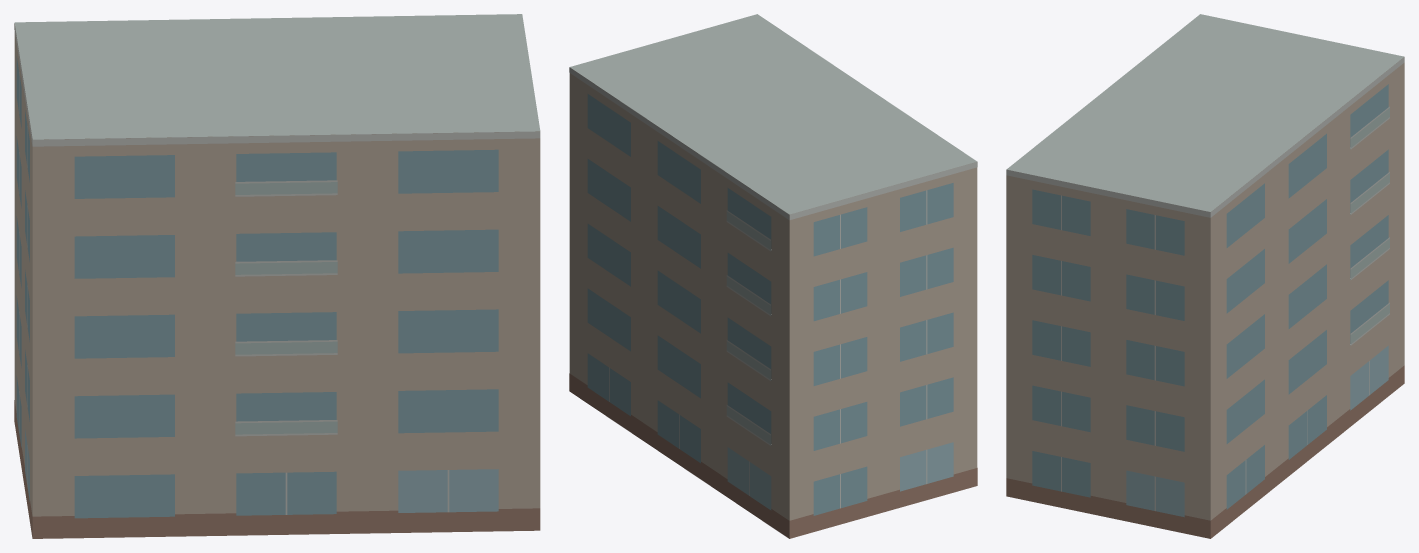
The model's file is survey-upis-32676097.glb.
3 views of the same model, side by side, from view 1: azimuth 30°, elevation 25°; view 2: azimuth 150°, elevation 25°; view 3: azimuth 270°, elevation 25° (orthographic). The views are drawn at different scales.
Visible parts, largest first — view 1: survey-upis-32676097.tmp; view 2: survey-upis-32676097.tmp; view 3: survey-upis-32676097.tmp.
Part boxes in pixels (x1=…): survey-upis-32676097.tmp: x1=14, y1=14, x2=540, y2=538; survey-upis-32676097.tmp: x1=569, y1=14, x2=977, y2=538; survey-upis-32676097.tmp: x1=1006, y1=14, x2=1404, y2=538.
Size of the model in its own units: 18.01 by 13.85 by 15.3.
